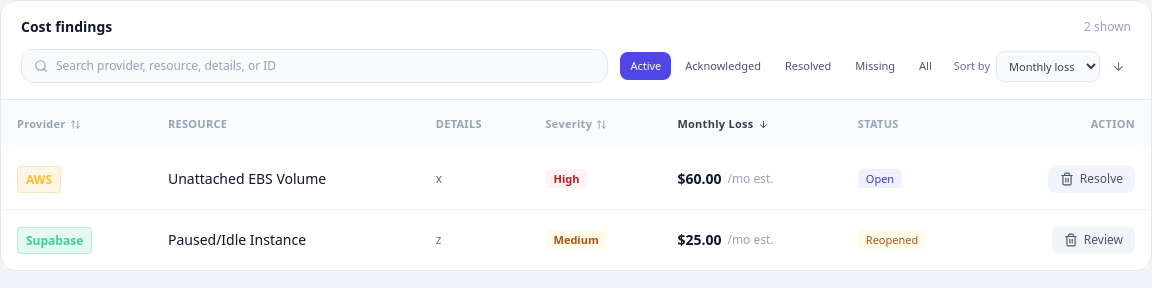
it: WasteTable › search filters across provider, resource, details, and id
Type "vol-1" into the field named "Search findings" at (326, 66), box [56,58,595,74]
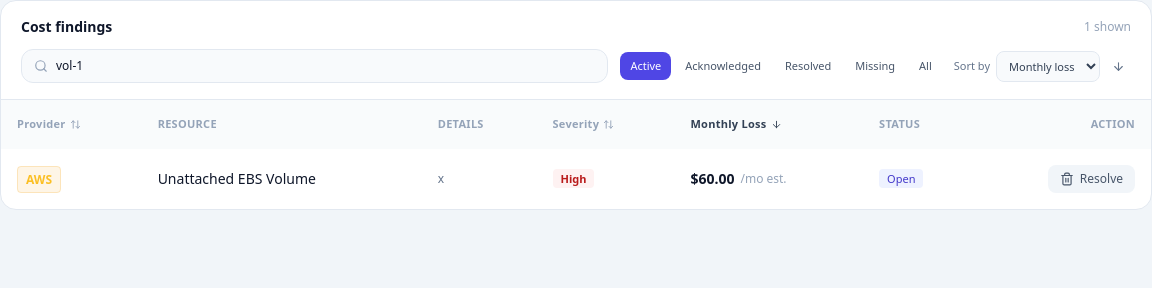
Expected: the text "x" is shown, [422,148,536,208]
Expected: the text "z" is gone
